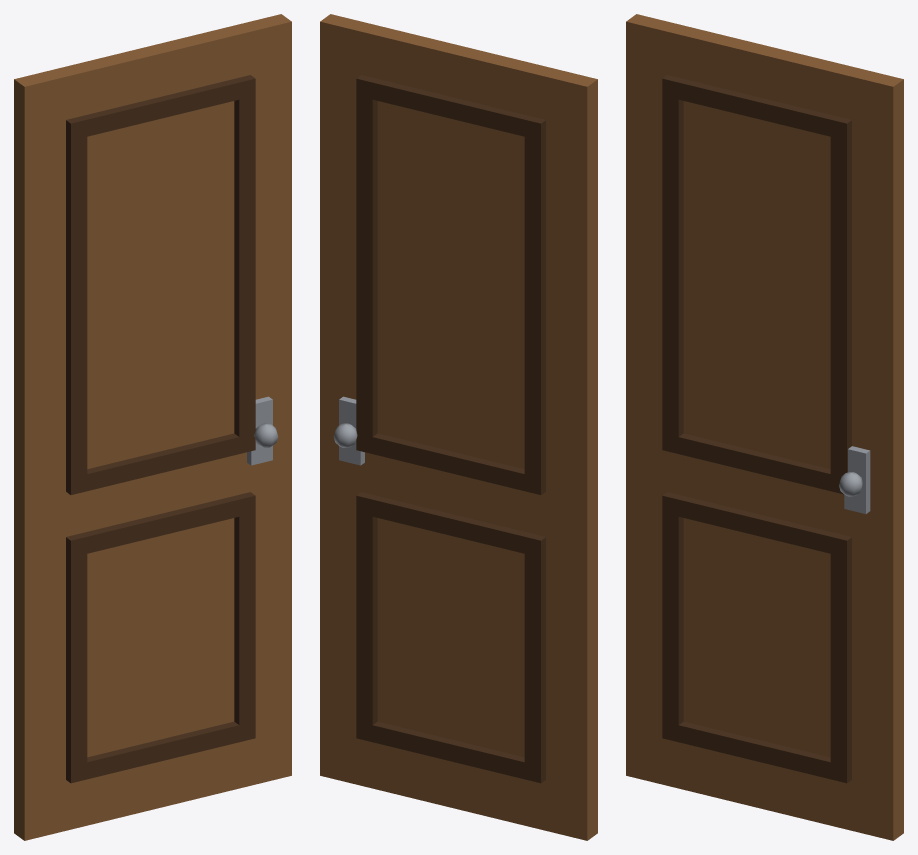
The model's file is SM_Door_slifer_inner_75x200.fbx.
3 views of the same model, side by side, from view 1: azimuth 30°, elevation 25°; view 2: azimuth 150°, elevation 25°; view 3: azimuth 330°, elevation 25° (orthographic).
Parts seen in each view (by area): view 1: SM_Door_slifer_inner_75x200; view 2: SM_Door_slifer_inner_75x200; view 3: SM_Door_slifer_inner_75x200.
Boxes of the visible parts, left/top/right/bottom form: SM_Door_slifer_inner_75x200: left=14, top=14, right=291, bottom=840; SM_Door_slifer_inner_75x200: left=320, top=14, right=597, bottom=840; SM_Door_slifer_inner_75x200: left=626, top=14, right=903, bottom=840.
Size of the model in its own units: 0.738 by 1.99 by 0.19.
